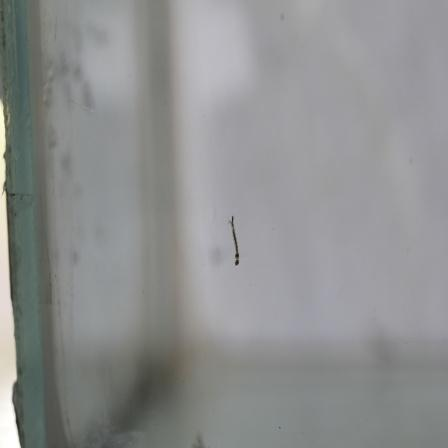Jentik-Nyamuk: (223, 213, 244, 271)
